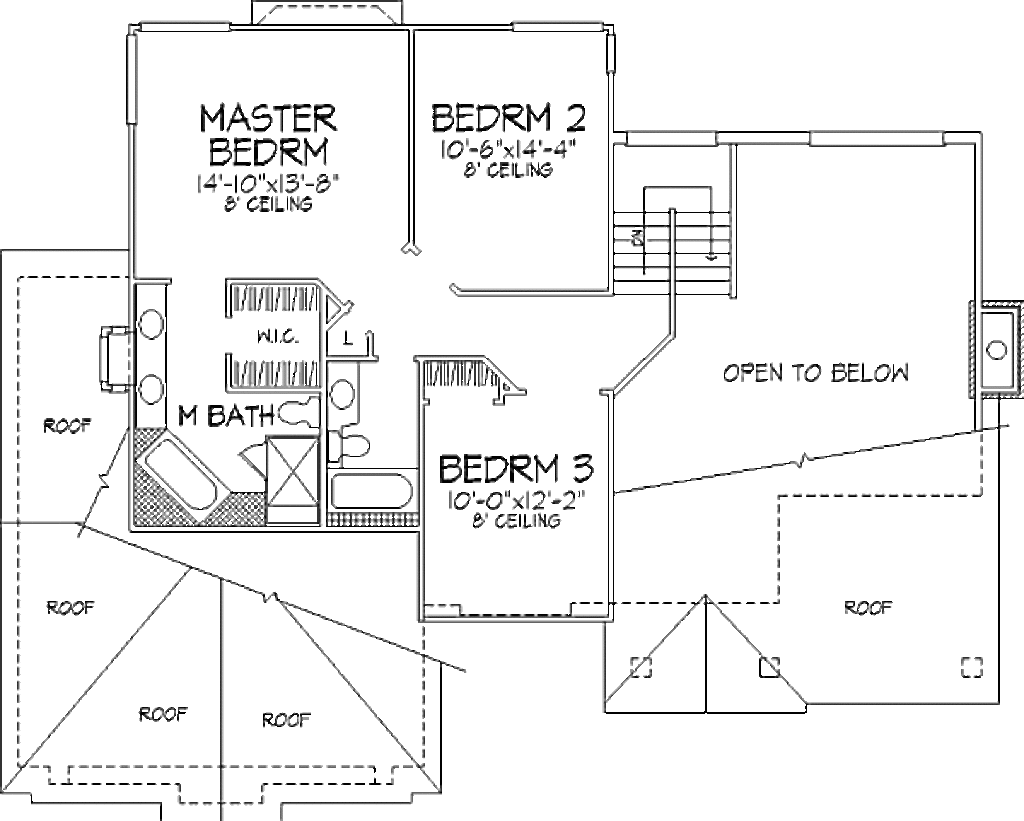door: (231, 436, 264, 483)
large_sink: (271, 384, 328, 438), (322, 426, 375, 465)
small_sink: (139, 282, 167, 436), (328, 356, 360, 422)
stairs: (609, 142, 742, 312)
tub: (133, 433, 231, 527), (325, 466, 426, 514)
window: (808, 123, 953, 157), (625, 122, 729, 155), (133, 18, 236, 37), (509, 18, 612, 36), (125, 33, 142, 128), (602, 34, 618, 78)
